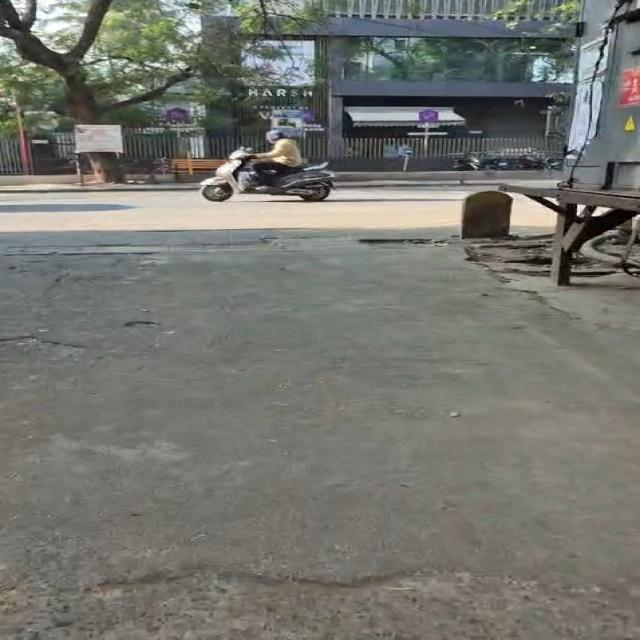obstacle: (411, 238, 632, 336), (15, 104, 33, 175), (172, 159, 227, 180), (424, 124, 429, 155)
vehicle: (200, 148, 334, 201), (453, 153, 480, 171)
